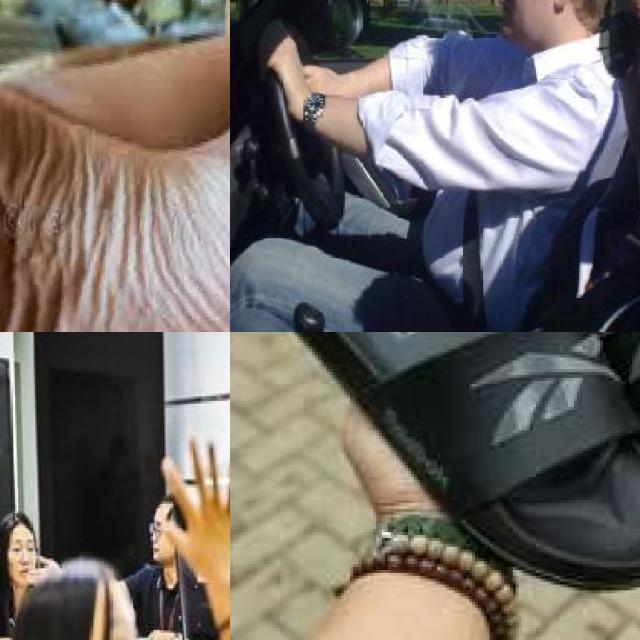Barefoots: (0, 81, 230, 332)
No_Ear-Protection: (551, 0, 582, 14)
Sandals: (230, 332, 640, 640)
face_nomask: (611, 0, 640, 138), (88, 607, 164, 640), (1, 527, 41, 578), (493, 0, 542, 32)
hand_noglove: (153, 437, 230, 571), (249, 8, 321, 115), (142, 621, 170, 640)
head_nohelmet: (21, 556, 143, 618), (0, 513, 47, 540)
person: (1, 541, 230, 640), (0, 505, 65, 640)
